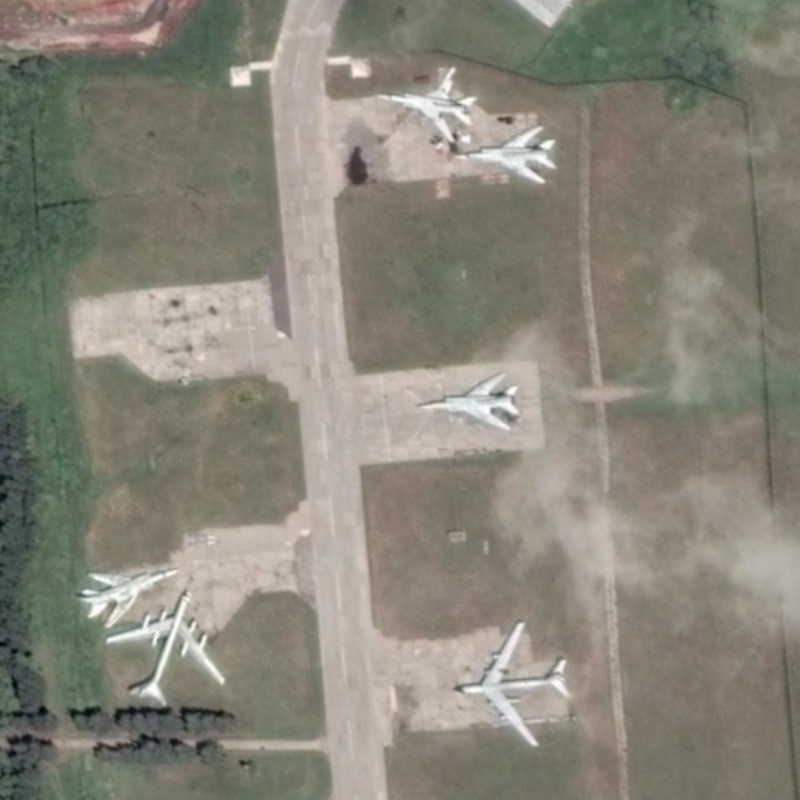A12: (374, 65, 479, 146), (77, 567, 182, 631), (452, 123, 558, 186), (417, 371, 522, 432)
A17: (455, 619, 571, 749), (104, 587, 228, 708)
